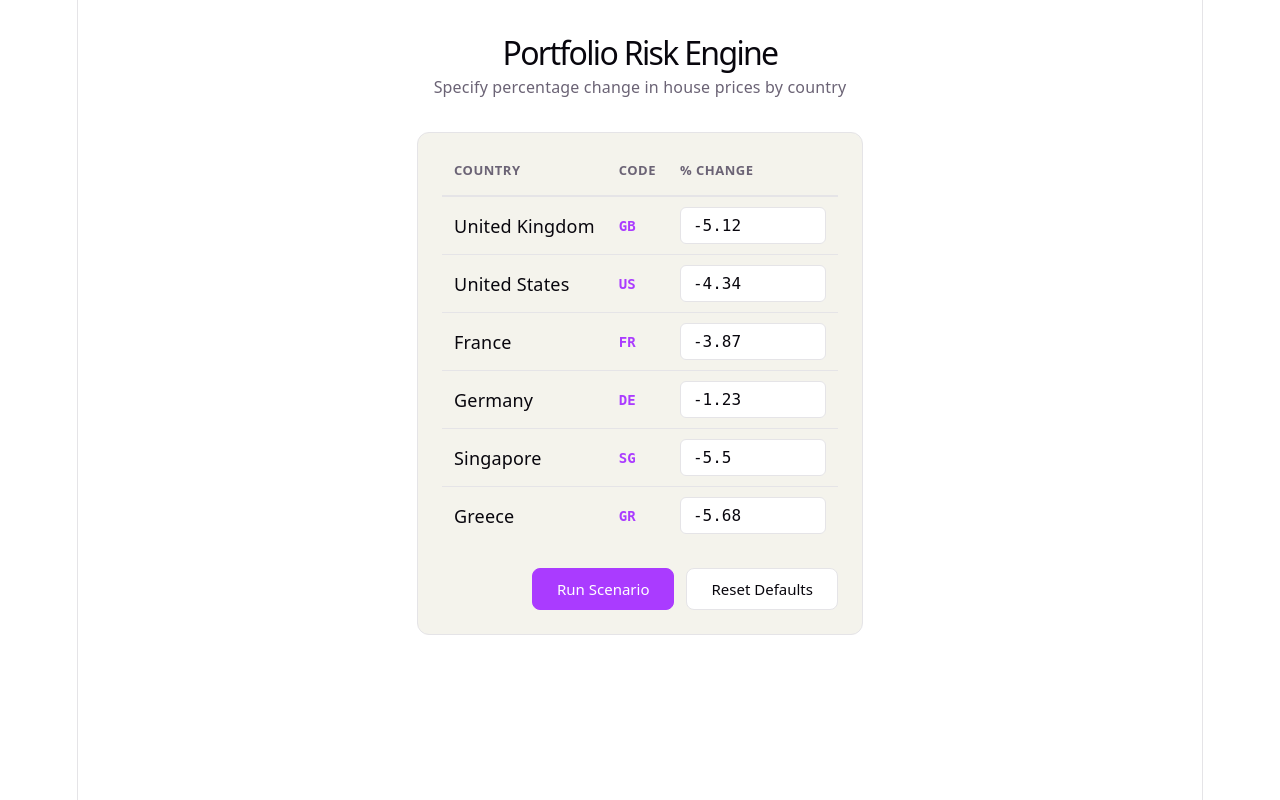
Test: HomePage › shows error message when API returns unexpected status
Click the button "Run Scenario" at point(603, 589), box [532, 568, 674, 610]
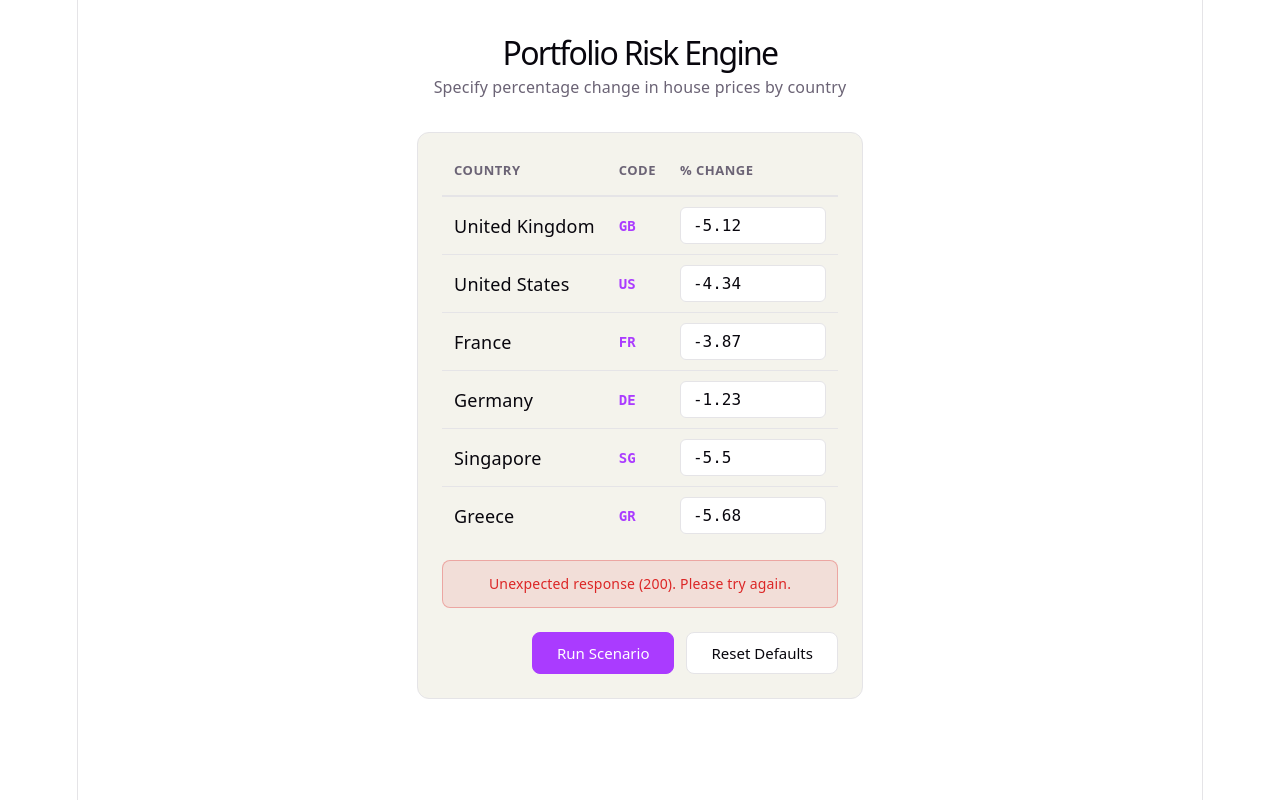
expect the text "Unexpected response (200). Please try again." is shown: met, box [442, 560, 838, 608]
